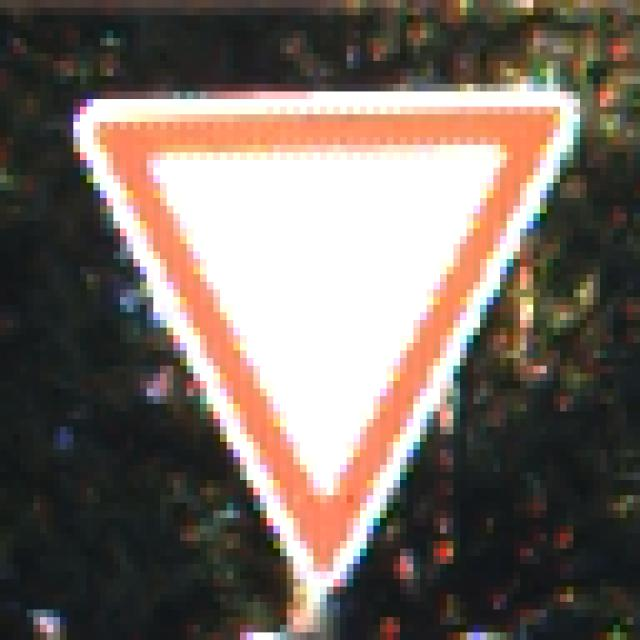Give Way: (61, 62, 588, 588)
